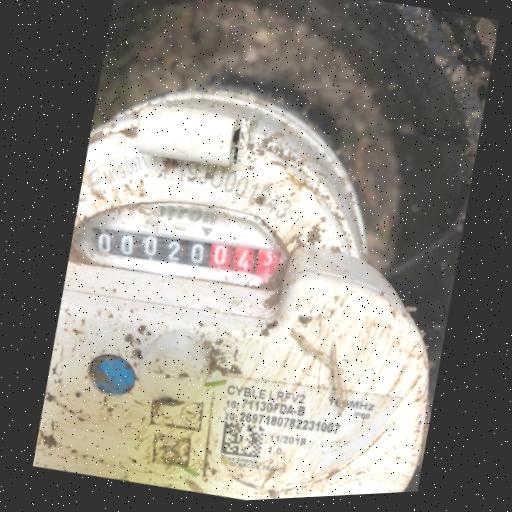0: (89, 223, 118, 259), (207, 240, 234, 272), (114, 227, 139, 259), (137, 230, 161, 262), (185, 237, 210, 267)
2: (161, 234, 187, 267)
3: (253, 247, 282, 287)
4: (231, 244, 257, 275)
border_water_meter_number: (83, 210, 283, 298)
